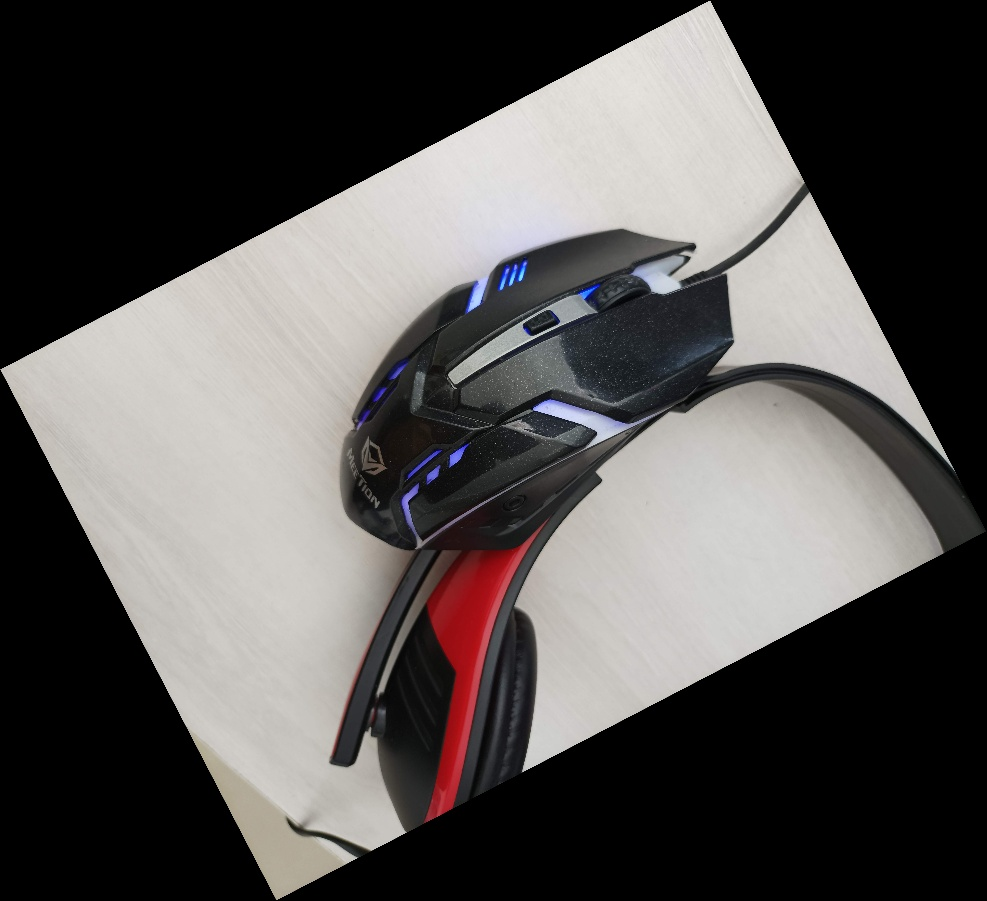mouse: (334, 224, 735, 554)
